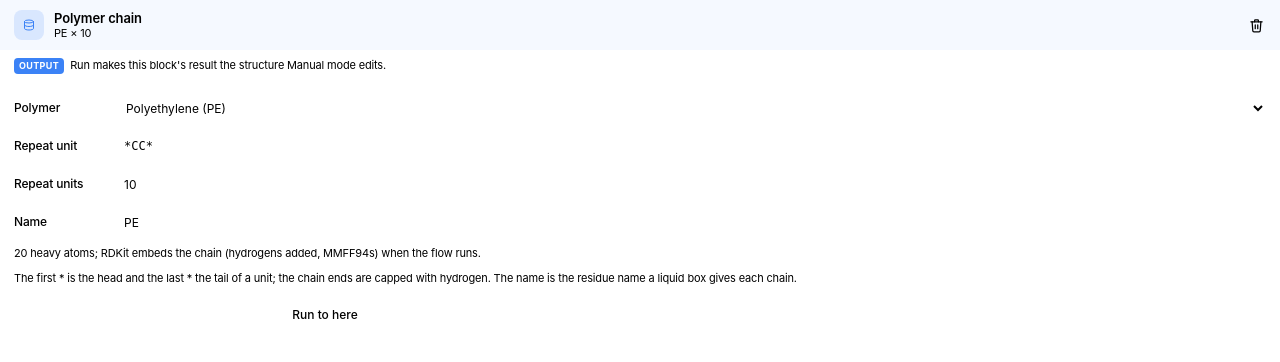
Test: number boxes › checks a polymer's length
The image size is (1280, 362).
Clear the number field with test id "builder-flow-polymer-length" at (691, 184), box x1=116 y1=170 x2=1266 y2=198
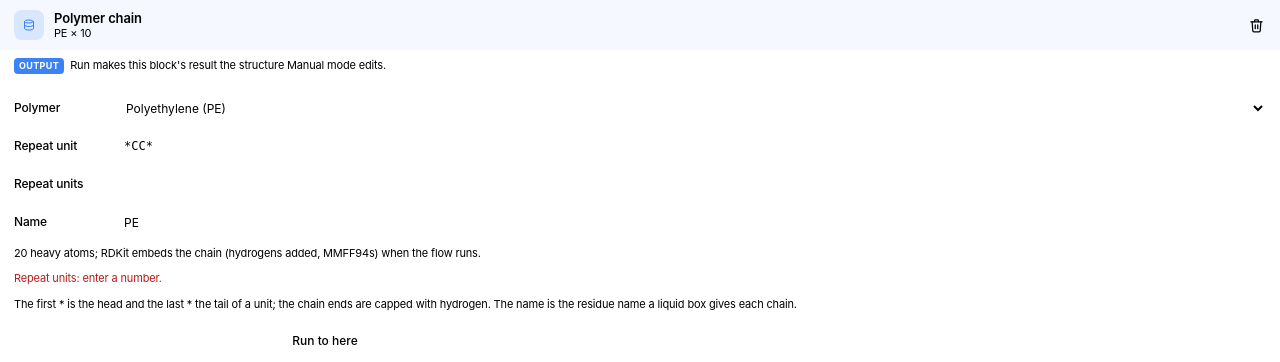
Check: the message with test id "builder-flow-builtin-problem" reads "Repeat units: enter a number.", box x1=14 y1=271 x2=162 y2=285
